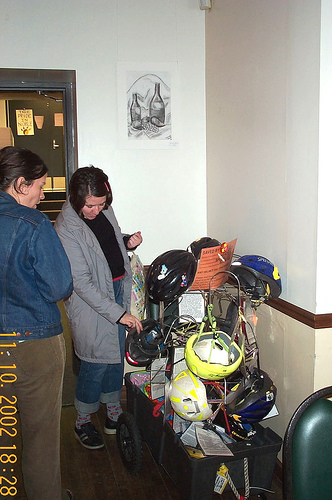helmet: (237, 250, 281, 295), (170, 372, 209, 421), (148, 255, 191, 296)
